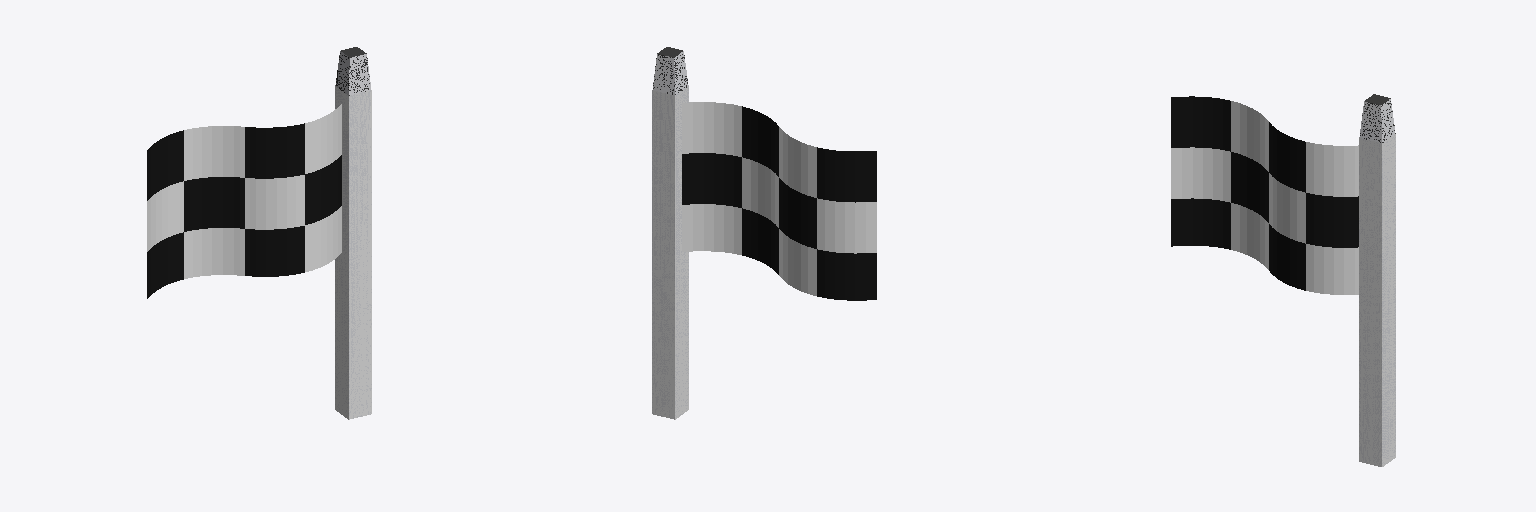
The picture shows the model from 3 angles: view 1: azimuth 30°, elevation 25°; view 2: azimuth 150°, elevation 25°; view 3: azimuth 330°, elevation 25°; orthographic projection.
Visible parts, largest first — view 1: flagCheckersSmall; view 2: flagCheckersSmall; view 3: flagCheckersSmall.
Part boxes in pixels (x1,y1,x2,y2): flagCheckersSmall: (147, 47, 371, 419); flagCheckersSmall: (652, 47, 876, 419); flagCheckersSmall: (1171, 94, 1395, 466).
Size of the model in its own units: 0.19 by 0.3 by 0.0352.
Materials: 4 (1 with a texture image).